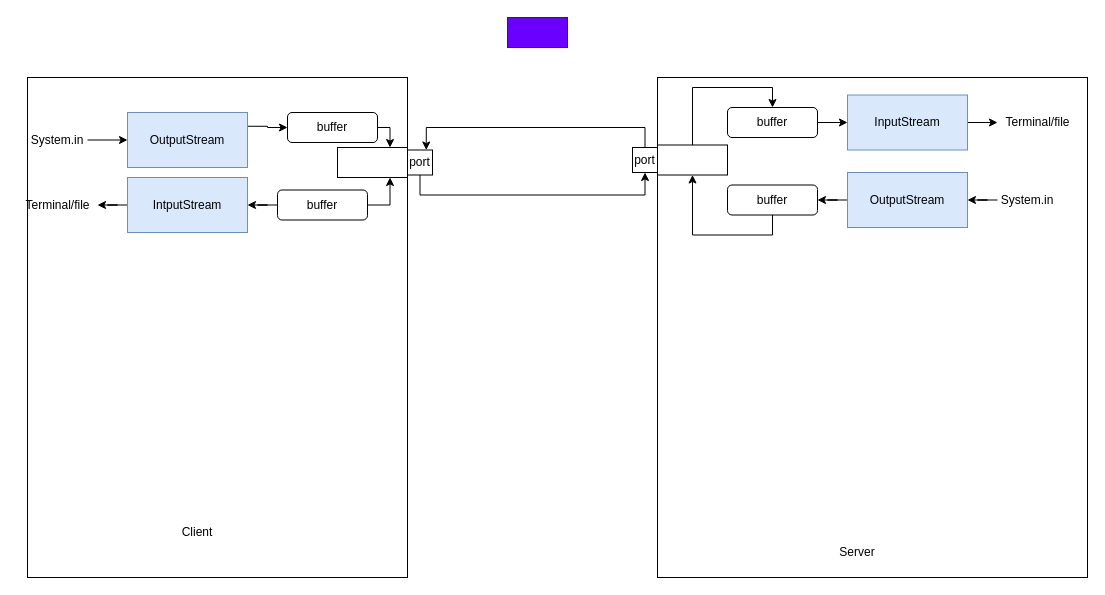
This 1105x595 diagram has some shape labels left out. The centre of each missing label's shape, as x and y in pixels:
Java通信过程: point 537,32
ServerSocket: point 692,159
Socket: point 372,162
